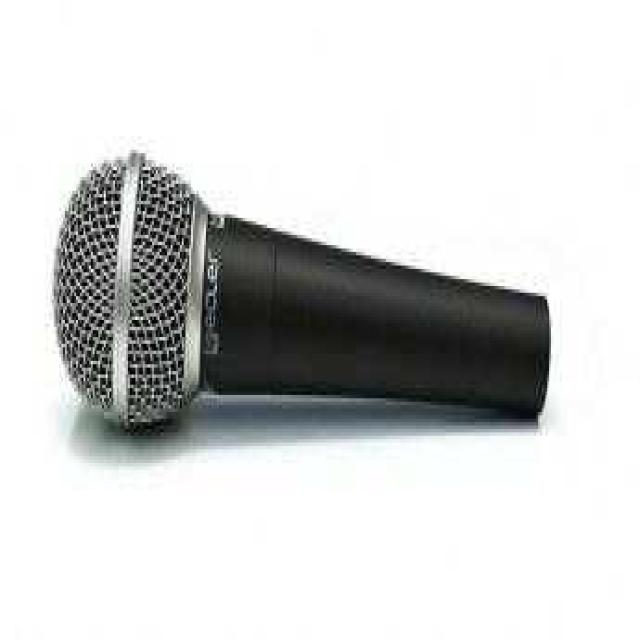microphone: (42, 151, 554, 457)
